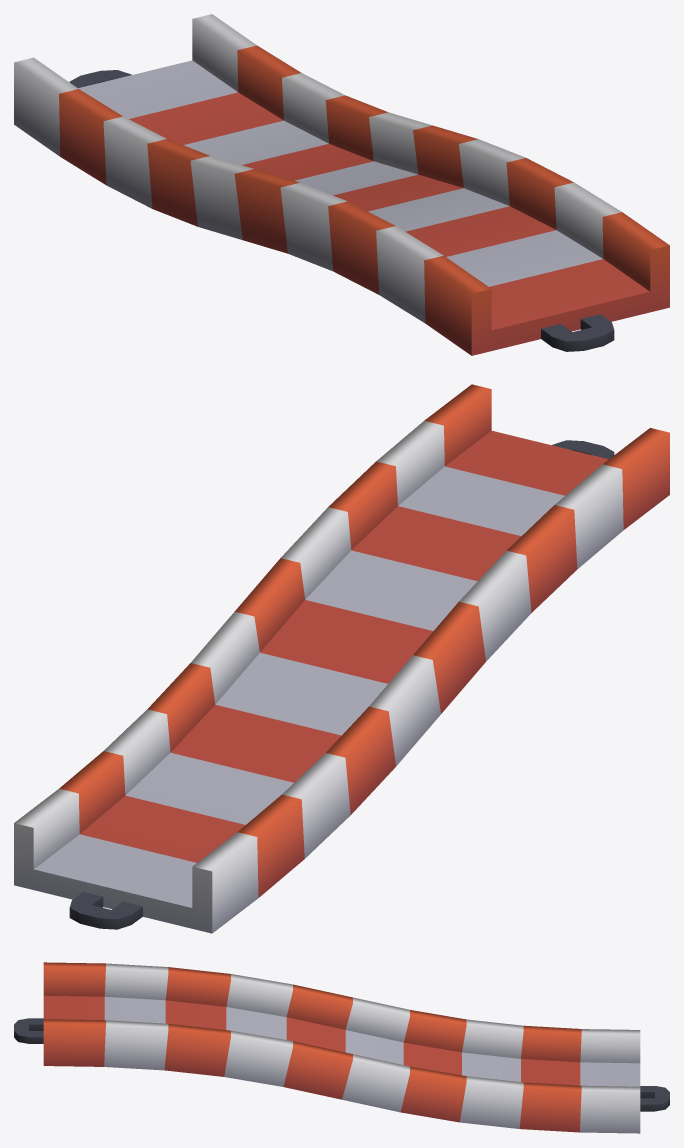
The model's file is track-striped-narrow-straight-hill-complete-half.glb.
3 views of the same model, one above another, from view 1: azimuth 30°, elevation 25°; view 2: azimuth 150°, elevation 25°; view 3: azimuth 270°, elevation 25° (orthographic). The views are drawn at different scales.
Parts seen in each view (by area): view 1: track-striped-narrow-straight-hill-complete-half; view 2: track-striped-narrow-straight-hill-complete-half; view 3: track-striped-narrow-straight-hill-complete-half.
Boxes of the visible parts, x1=… form: track-striped-narrow-straight-hill-complete-half: x1=14, y1=14, x2=669, y2=355; track-striped-narrow-straight-hill-complete-half: x1=14, y1=384, x2=669, y2=933; track-striped-narrow-straight-hill-complete-half: x1=14, y1=962, x2=669, y2=1133.
Size of the model in its own units: 1 by 0.8 by 4.4.
